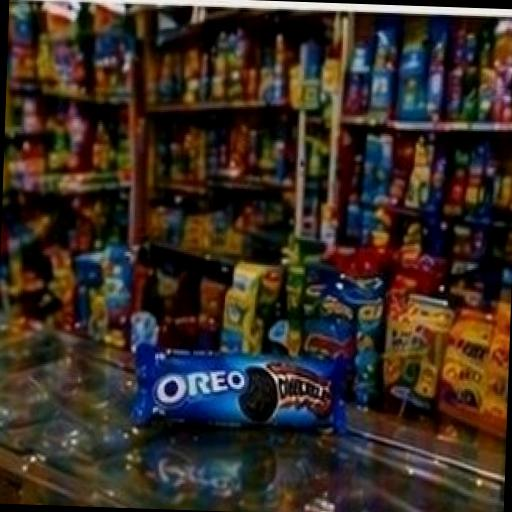oreo: (72, 273, 409, 498)
